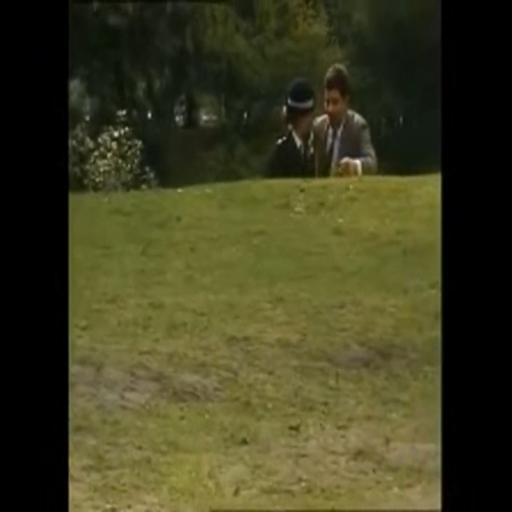nao-violencia: (266, 62, 389, 184)
